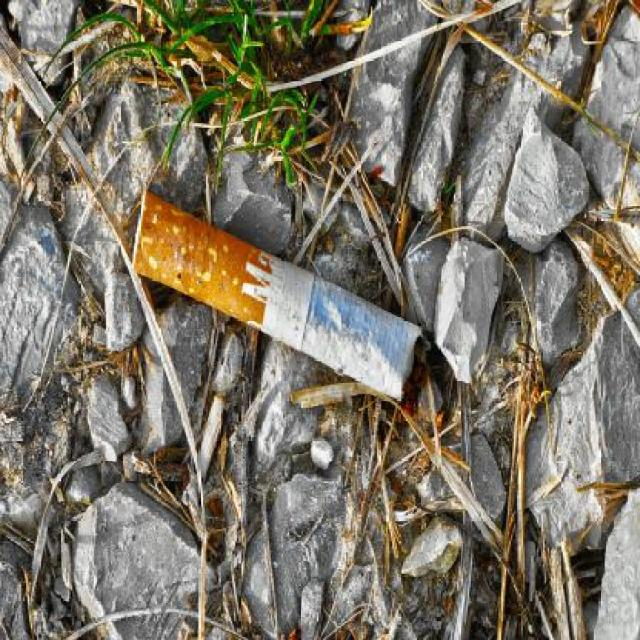cigarette: (130, 181, 432, 407)
